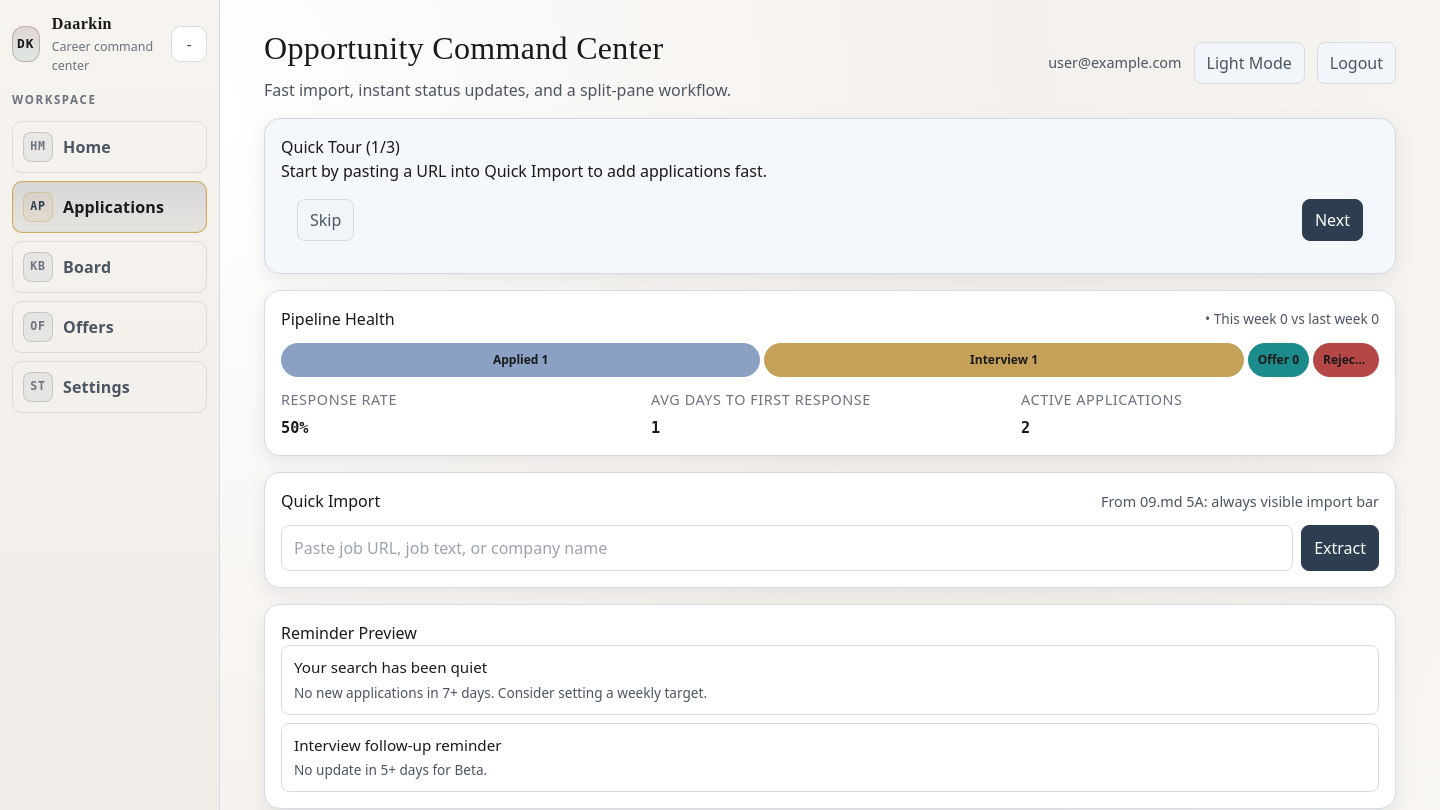
Scenario: Dashboard interactions › adds new application after successful import
# Paste a URL into Quick Import
In the field with placeholder "Paste job URL, job text, or company name": (787, 548) [281, 525, 1293, 571], type "https://gamma.com/jobs/frontend-dev"
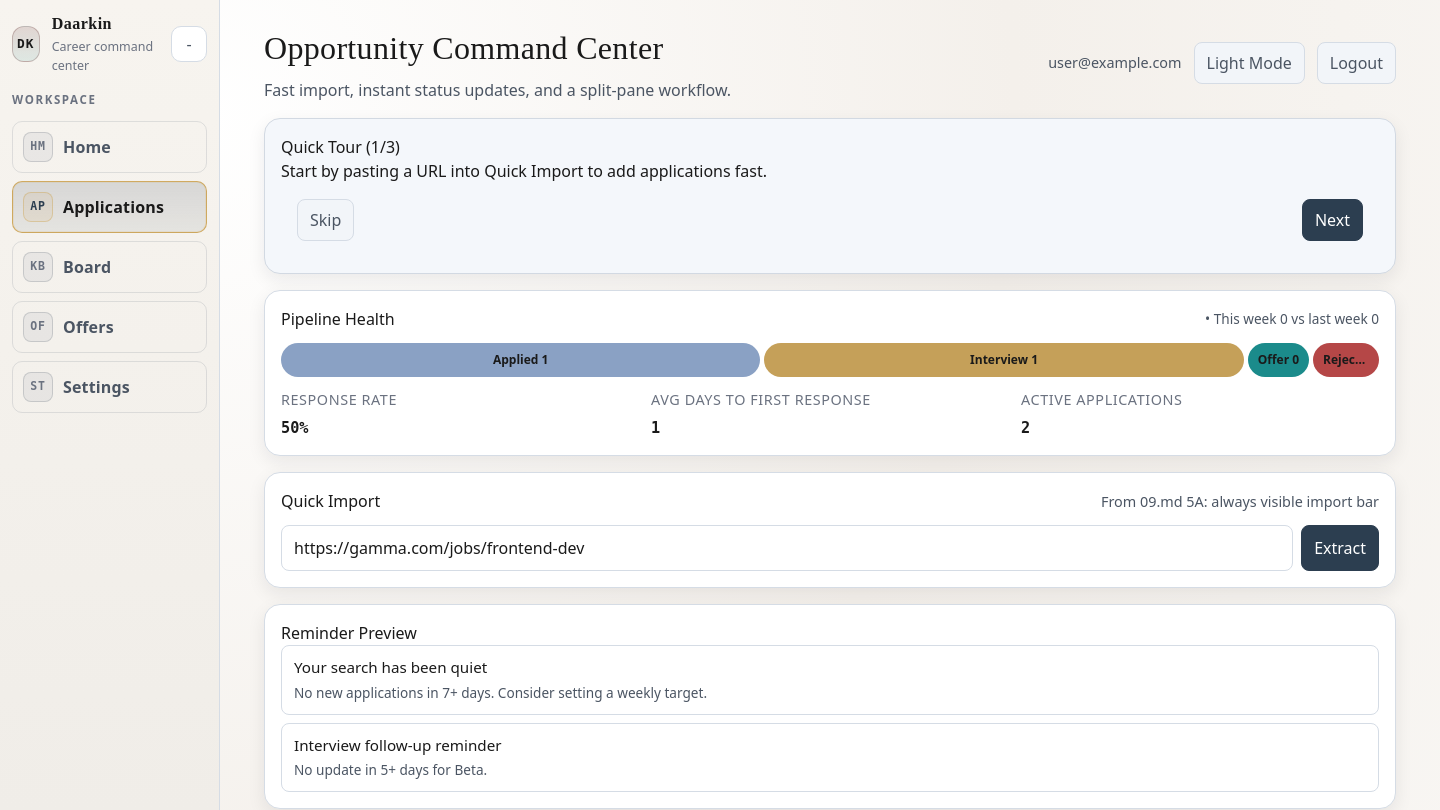
Click the button "Extract": (1340, 548) [1301, 525, 1379, 571]
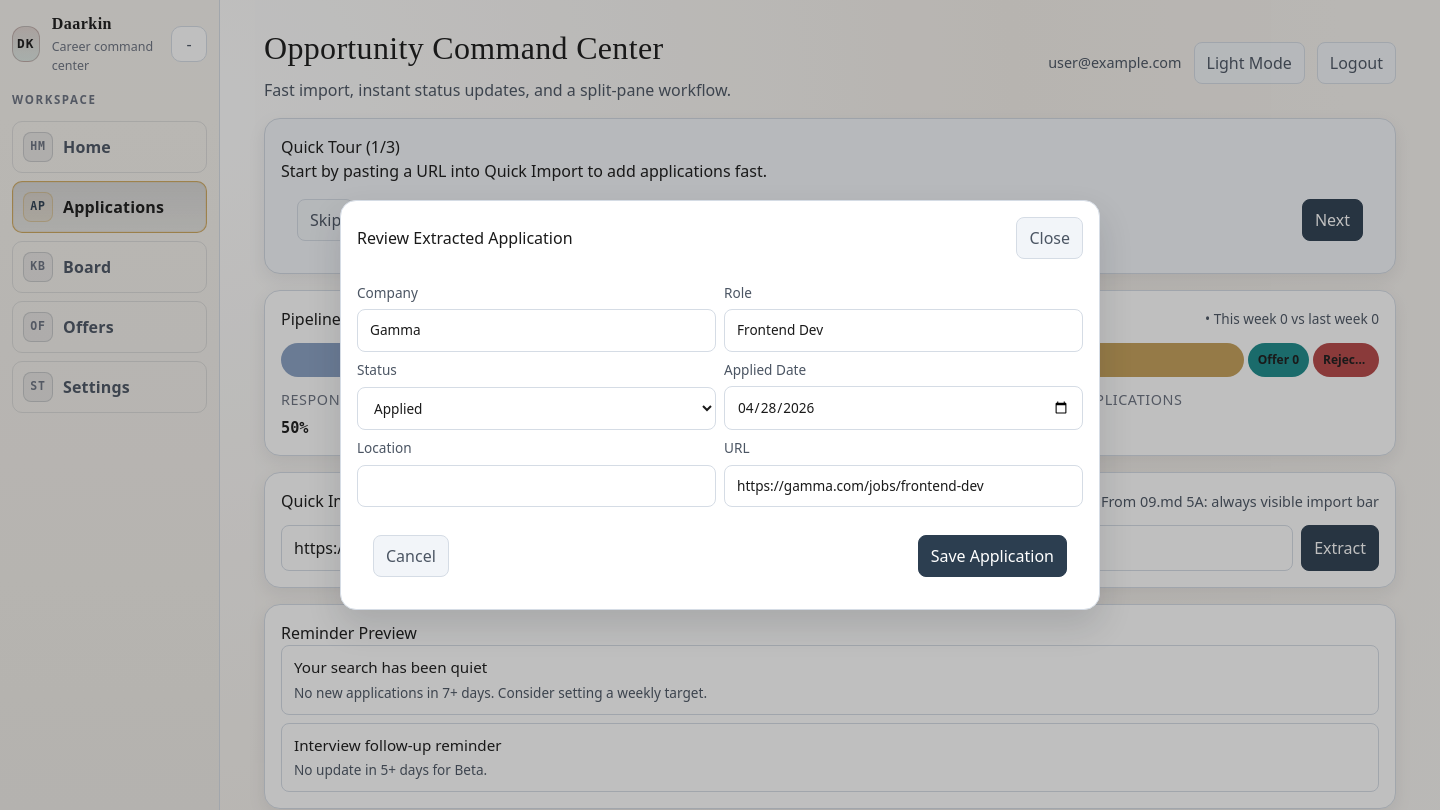
Expected: the button "Save Application" is shown
# Click Save
Click the button "Save Application": (992, 556) [918, 535, 1067, 577]
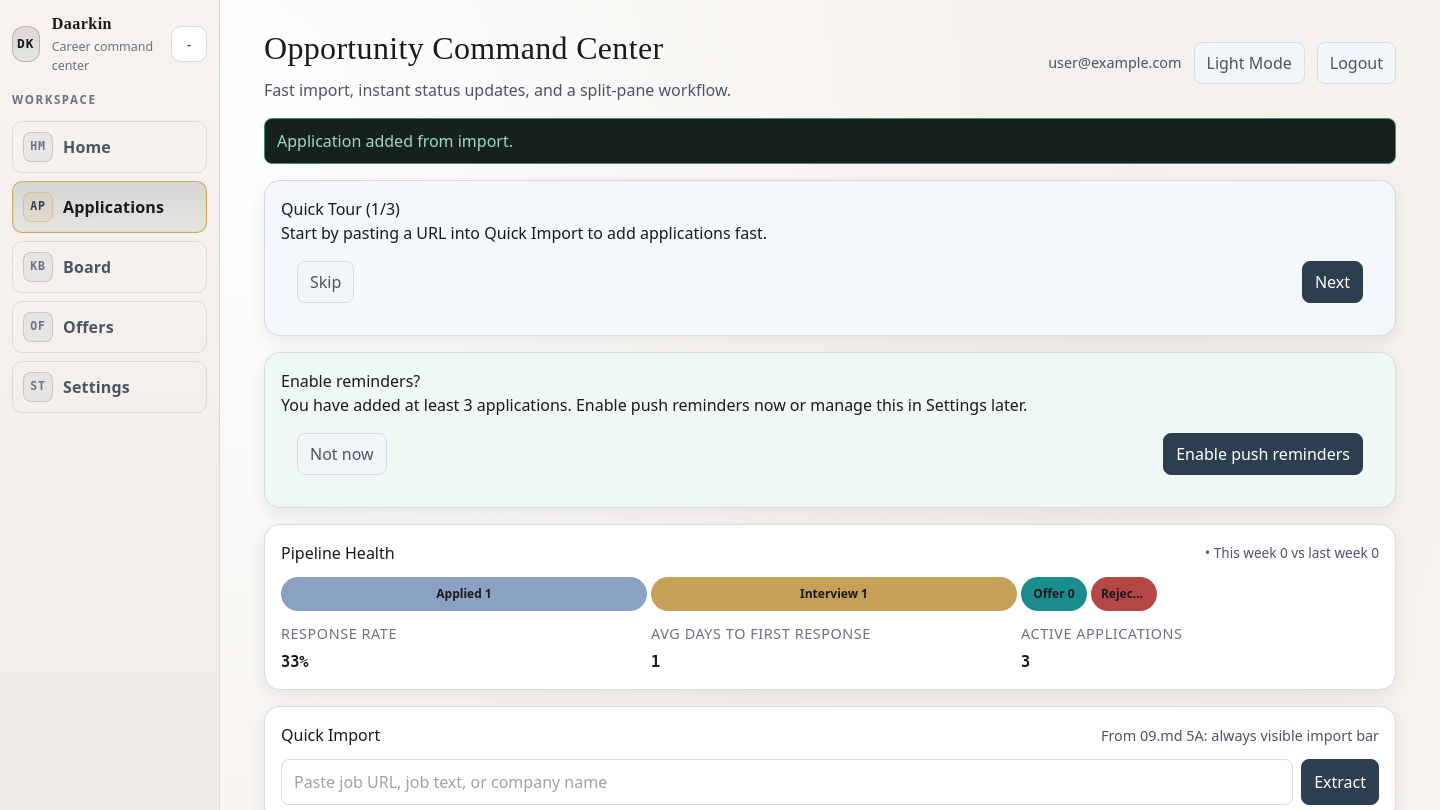
Expected: the text "Application added from import." is shown, [264, 118, 1396, 164]
